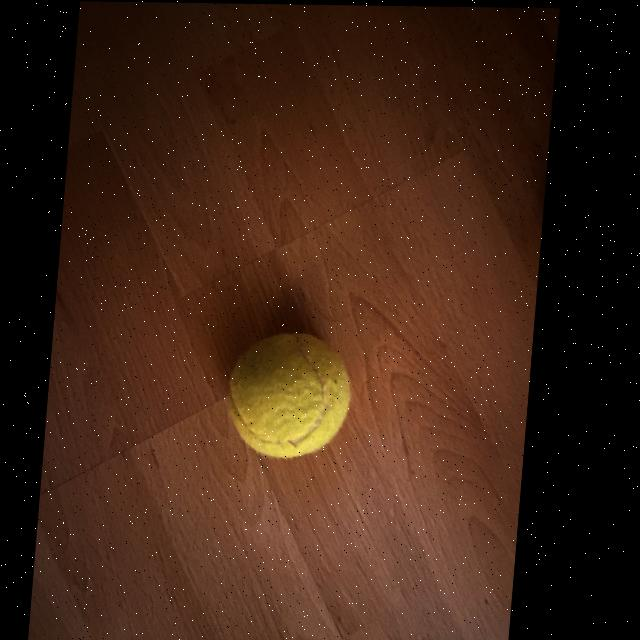Tennisball: (229, 333, 351, 458)
